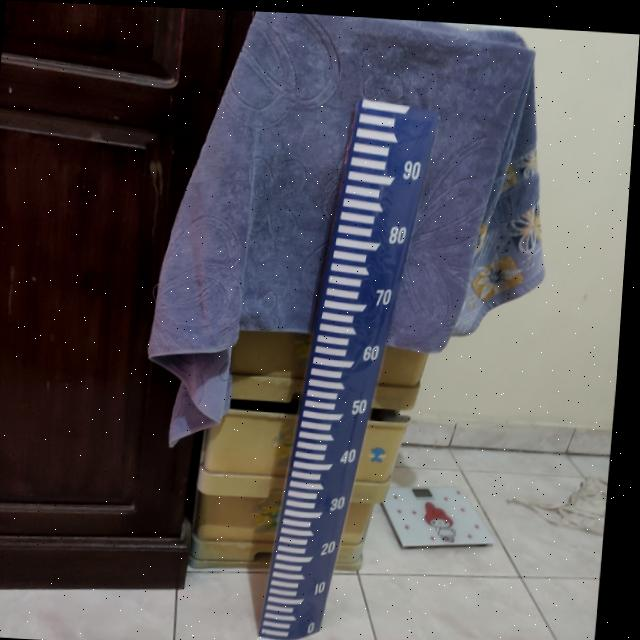water-meter: (253, 87, 454, 640)
